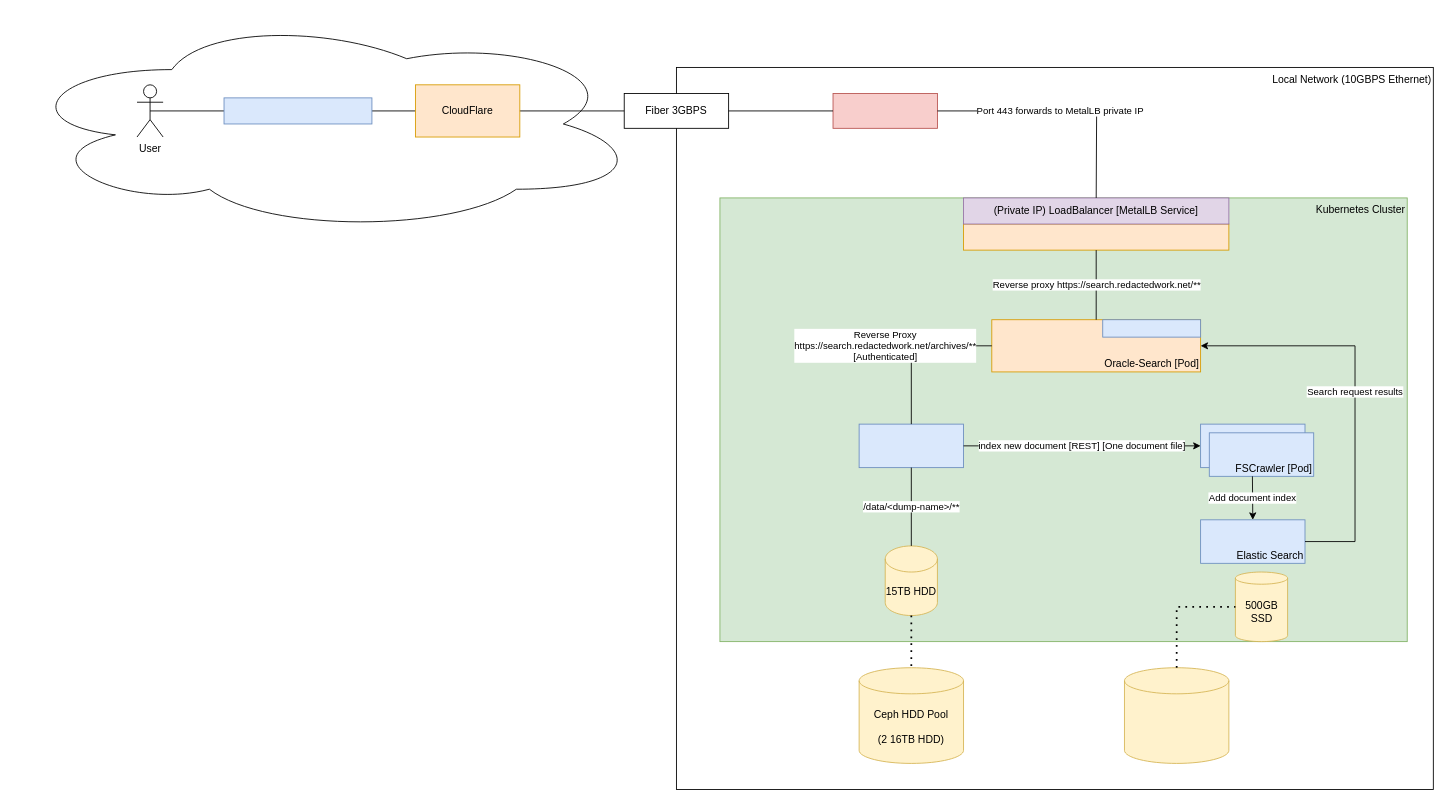
Image size: 1449x805. Some labels were removed from this diagram. The shapes that lost their labels are listed below. From the top down, each one's centre as x and y in pixels, then its label:
At point (297, 110): "search.redactedworks.net".
At point (884, 110): "pfSense".
At point (1096, 236): "search.redactedwork.net [TLS Ingress]".
At point (1151, 328): "Frontend ( Web UI)".
At point (911, 445): "Archive-Ingester [Pod]".
At point (1176, 715): "Ceph SSD Pool (7x 1.8 TB SAS SSD)".
